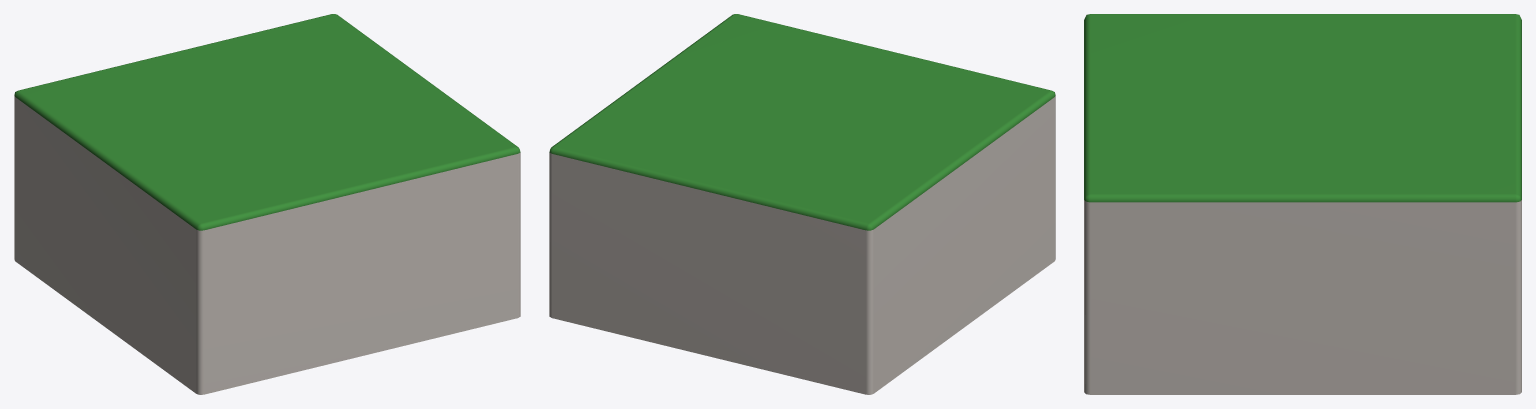
Rendered from cliff_4sided.fbx.
3 renders of one model, left to right at view 1: azimuth 30°, elevation 25°; view 2: azimuth 150°, elevation 25°; view 3: azimuth 270°, elevation 25°, orthographic. The views are drawn at different scales.
Visible parts, largest first — view 1: Cliff_04; view 2: Cliff_04; view 3: Cliff_04.
Part boxes in pixels (box(x1,y1,x2,y2)): Cliff_04: box(14, 14, 520, 394); Cliff_04: box(549, 14, 1055, 394); Cliff_04: box(1084, 14, 1521, 394).
Bounding box in the file's own units: 200 × 100 × 200.
